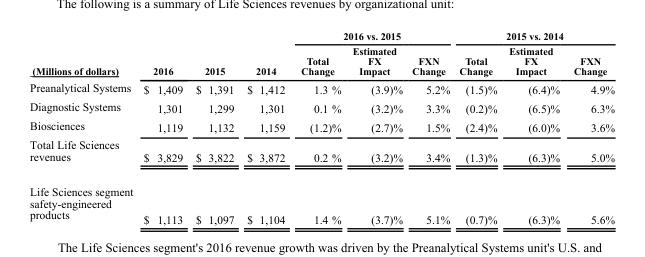table: (29, 29, 613, 225)
table column: (29, 29, 137, 225), (502, 29, 565, 225), (346, 29, 406, 225), (292, 29, 346, 225), (239, 29, 292, 225), (137, 29, 188, 225), (188, 29, 239, 225), (453, 29, 502, 225), (565, 29, 613, 225), (406, 29, 453, 225)
table column header: (29, 29, 613, 78)
table row: (29, 174, 613, 225), (29, 135, 613, 174), (29, 42, 613, 78), (29, 78, 613, 97), (29, 97, 613, 116), (29, 116, 613, 135), (29, 29, 613, 42)
table spanning cell: (29, 29, 137, 78), (239, 29, 292, 78), (137, 29, 188, 78), (188, 29, 239, 78), (292, 29, 453, 42), (453, 29, 613, 42)
